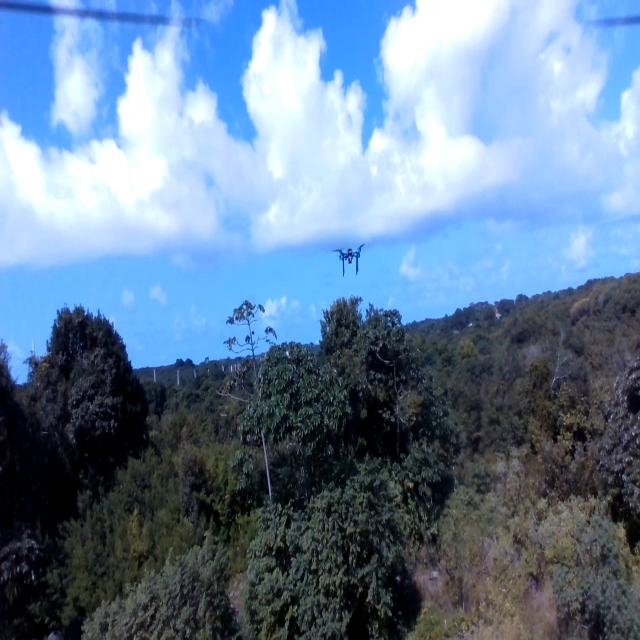-uav-: (325, 232, 375, 288)
